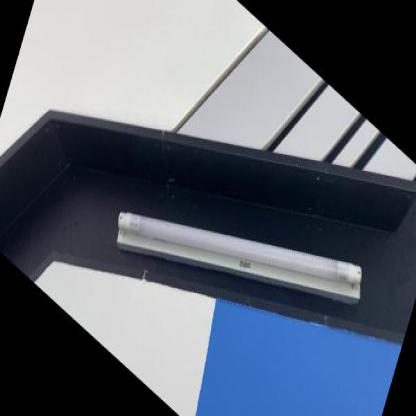light_off: (91, 57, 376, 414)
